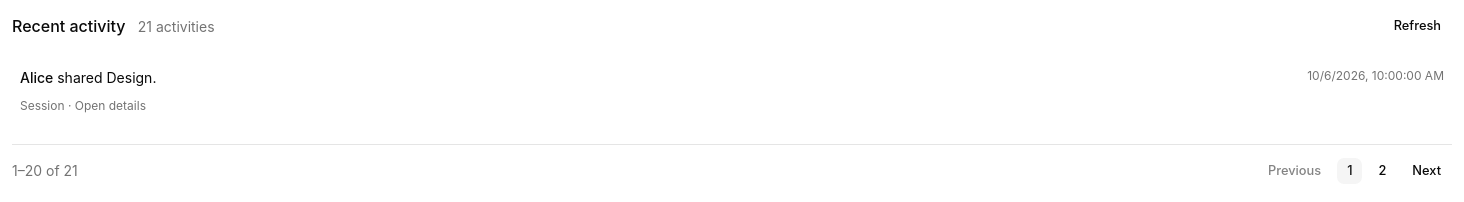
Test case: fetches one bounded page and locates the clicked shared object
Step 1. Click the link "Alice shared Design" → (37, 78), box [20, 68, 1444, 113]
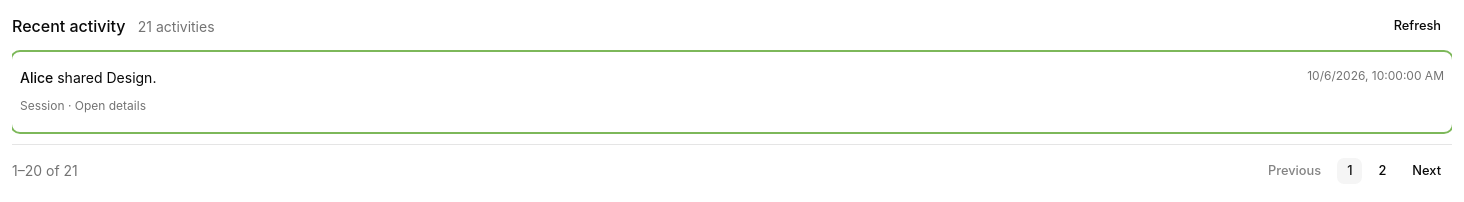
Step 2. Click the button named "Activity page 2" → (1382, 171), box [1368, 157, 1397, 185]
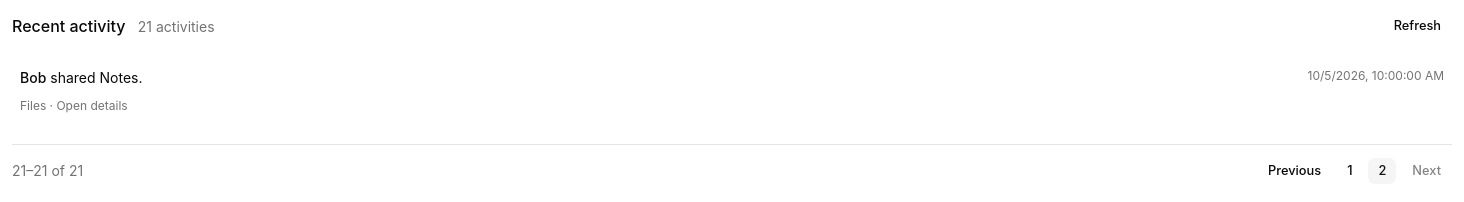
Expected: the link "Bob shared Notes" is shown, [20, 68, 1444, 113]
Expected: the link "Alice shared Design" is gone
